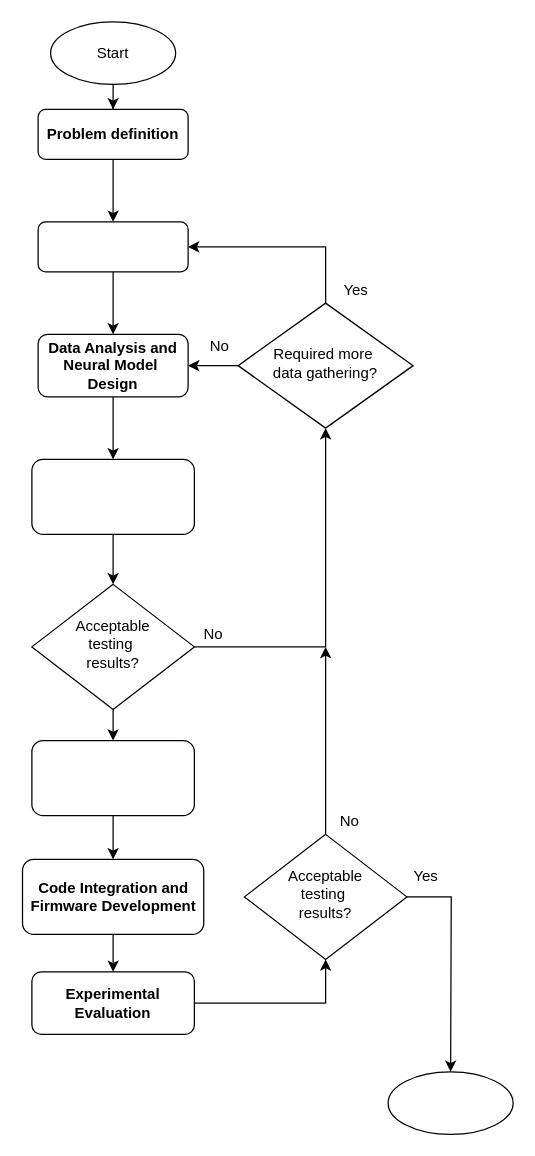
This 535x1156 diagram has some shape labels left out. Here are the shapes that lost their labels. From the top down, the centre of each, then its label:
pixel 112 246: Data Gathering
pixel 112 496: Network Training and Validation
pixel 112 777: Network code Generation and on-target Testing
pixel 450 1102: End
